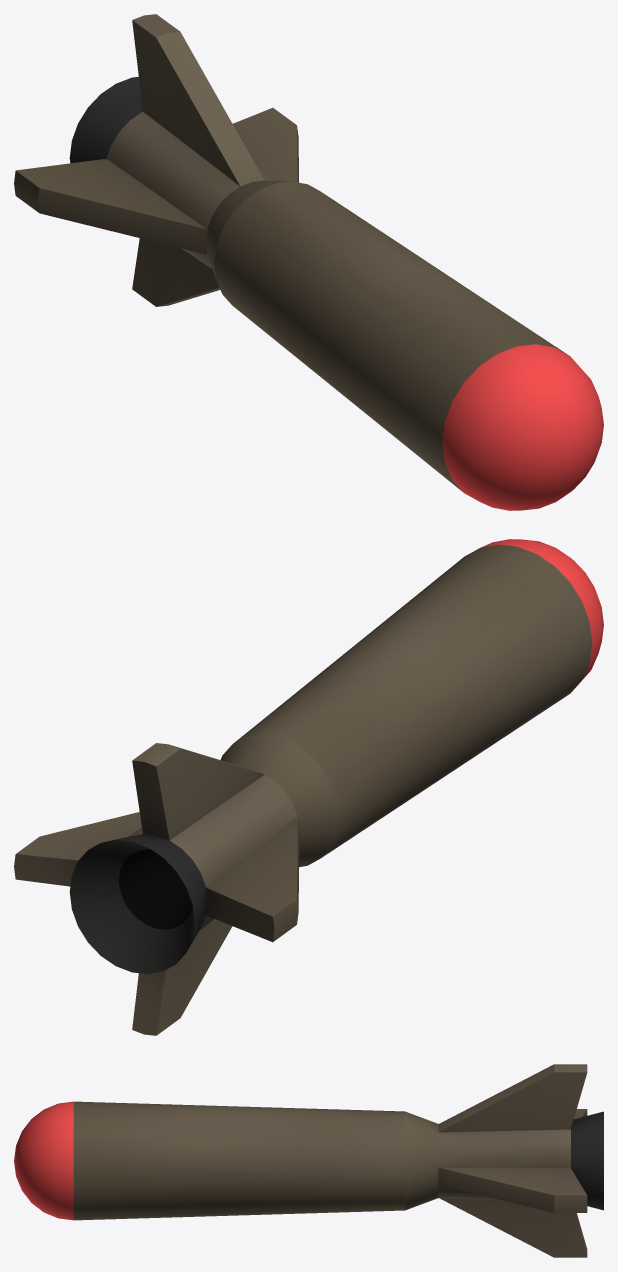
File: rocket_launcher_quad_projectile.fbx
The picture shows the model from 3 angles, top to bottom: view 1: azimuth 30°, elevation 25°; view 2: azimuth 150°, elevation 25°; view 3: azimuth 270°, elevation 25°; orthographic projection. The views are drawn at different scales.
Parts seen in each view (by area): view 1: rocket_launcher_quad_projectile; view 2: rocket_launcher_quad_projectile; view 3: rocket_launcher_quad_projectile.
Boxes of the visible parts, left/top/right/bottom form: rocket_launcher_quad_projectile: left=14, top=14, right=603, bottom=510; rocket_launcher_quad_projectile: left=14, top=539, right=603, bottom=1035; rocket_launcher_quad_projectile: left=14, top=1064, right=603, bottom=1257.
Size of the model in its own units: 15.62 by 15.62 by 44.5.
